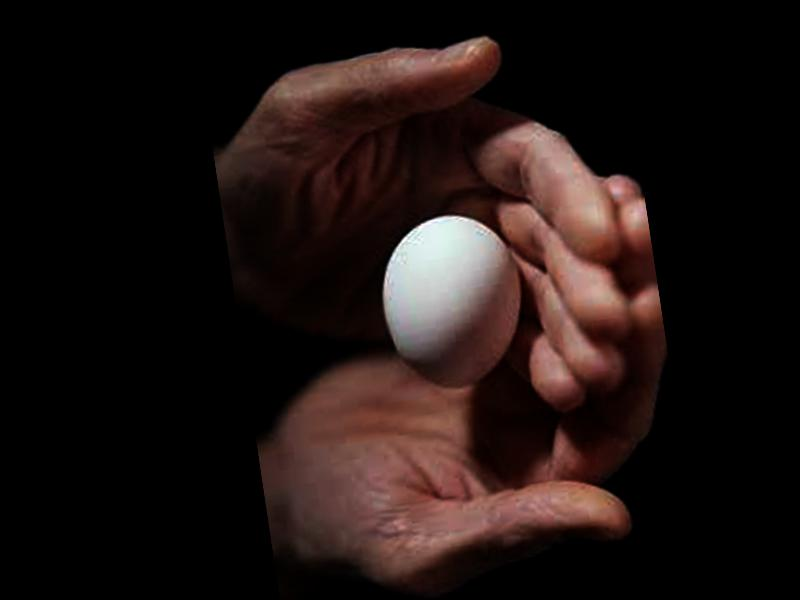Eggs: (369, 205, 532, 395)
